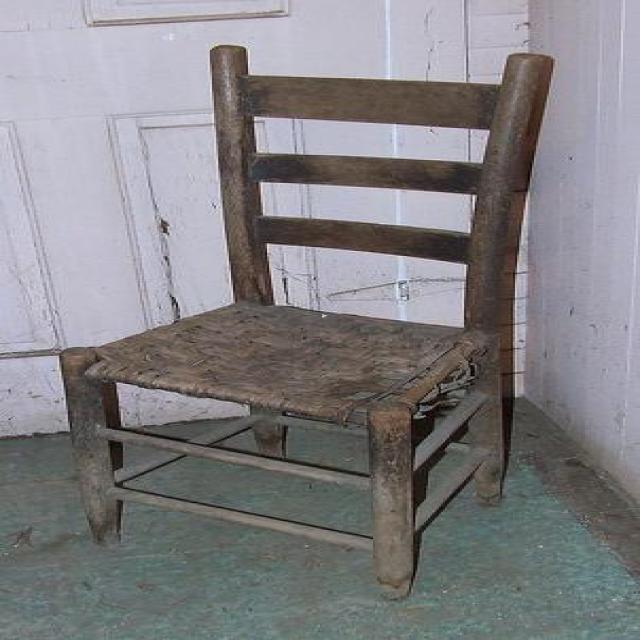chair: (59, 42, 562, 600)
